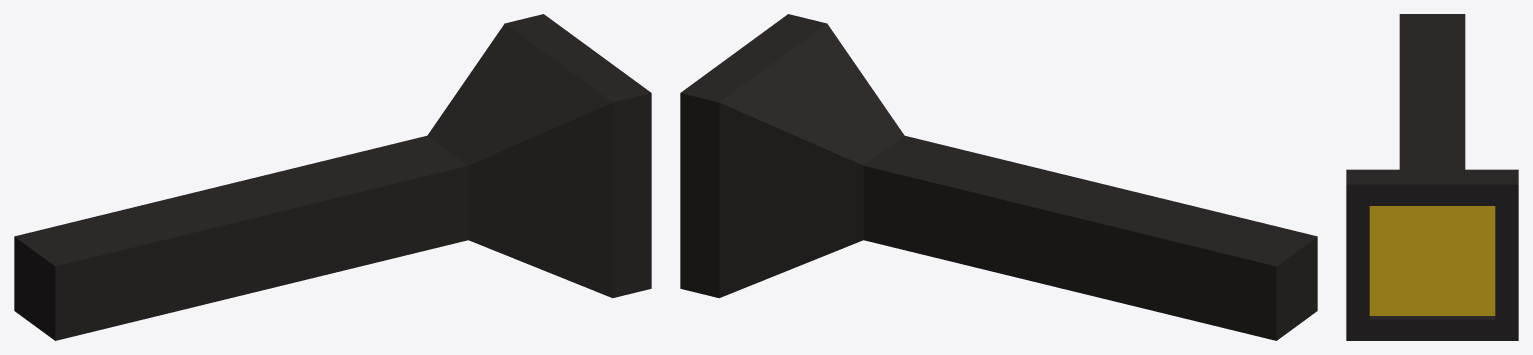
File: Flashlight.fbx
3 renders of one model, left to right at view 1: azimuth 30°, elevation 25°; view 2: azimuth 150°, elevation 25°; view 3: azimuth 270°, elevation 25°, orthographic. The views are drawn at different scales.
Visible parts, largest first — view 1: Model; view 2: Model; view 3: Model.
Part boxes in pixels (x1,y1,x2,y2): Model: (14,14,651,340); Model: (680,14,1317,340); Model: (1346,14,1518,340).
Size of the model in its own units: 0.2105 by 0.6335 by 0.2105.
